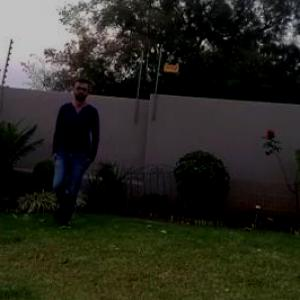follow: (51, 76, 99, 232)
